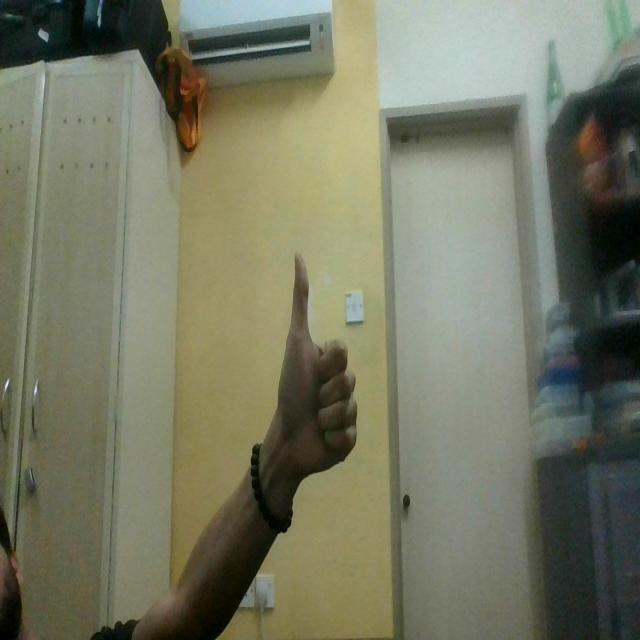thumbs up: (268, 243, 370, 487)
